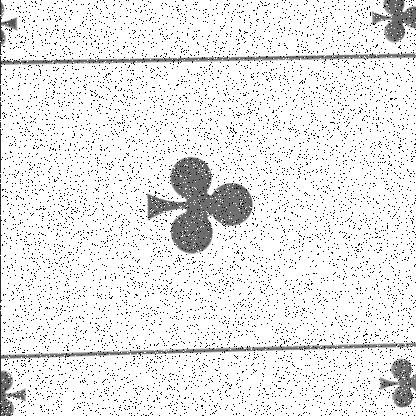Ac: (349, 342, 415, 414), (356, 0, 415, 63)
